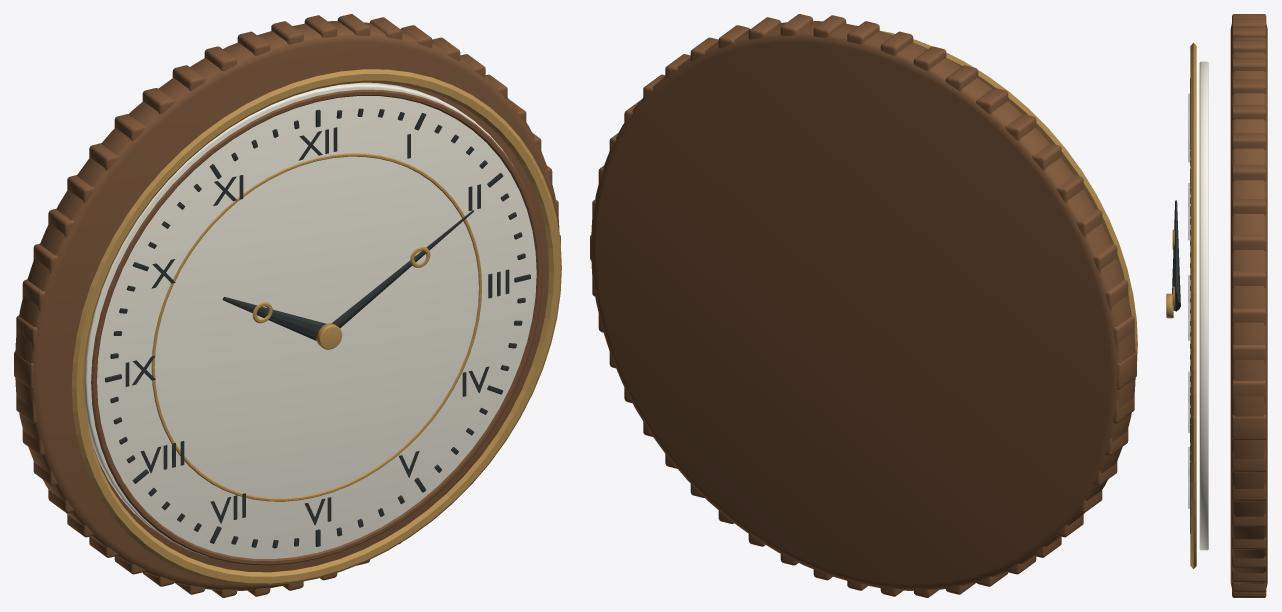
File: wall-clock.glb
3 views of the same model, side by side, from view 1: azimuth 30°, elevation 25°; view 2: azimuth 150°, elevation 25°; view 3: azimuth 270°, elevation 25° (orthographic). The views are drawn at different scales.
Parts seen in each view (by area): view 1: catalog_surface_RealismUV; view 2: catalog_surface_RealismUV; view 3: catalog_surface_RealismUV.
Boxes of the visible parts, box(x1,y1,x2,y2) form: catalog_surface_RealismUV: box(14, 14, 561, 597); catalog_surface_RealismUV: box(590, 14, 1137, 597); catalog_surface_RealismUV: box(1166, 14, 1267, 597).
Bounding box in the file's own units: 0.4 × 0.4 × 0.07.
